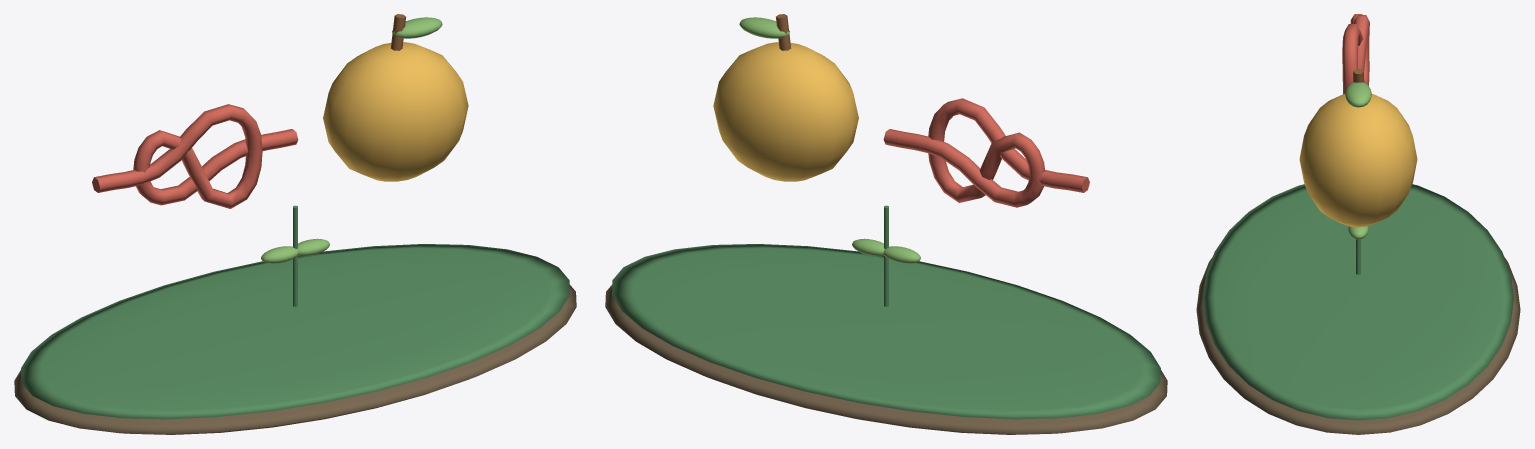
The model's file is complete-second-knot-fruit-result.glb.
3 views of the same model, side by side, from view 1: azimuth 30°, elevation 25°; view 2: azimuth 150°, elevation 25°; view 3: azimuth 270°, elevation 25° (orthographic). The views are drawn at different scales.
Visible parts, largest first — view 1: complete-second-knot-fruit-result_surface_01, complete-second-knot-fruit-result_surface_03, complete-second-knot-fruit-result_surface_00, complete-second-knot-fruit-result_surface_02, complete-second-knot-fruit-result_surface_05; view 2: complete-second-knot-fruit-result_surface_01, complete-second-knot-fruit-result_surface_03, complete-second-knot-fruit-result_surface_00, complete-second-knot-fruit-result_surface_02, complete-second-knot-fruit-result_surface_05; view 3: complete-second-knot-fruit-result_surface_01, complete-second-knot-fruit-result_surface_03, complete-second-knot-fruit-result_surface_00, complete-second-knot-fruit-result_surface_02, complete-second-knot-fruit-result_surface_05.
Part boxes in pixels (<box>): complete-second-knot-fruit-result_surface_01: <box>21,205,569,419</box>; complete-second-knot-fruit-result_surface_03: <box>323,42,468,181</box>; complete-second-knot-fruit-result_surface_00: <box>14,284,576,434</box>; complete-second-knot-fruit-result_surface_02: <box>92,104,298,208</box>; complete-second-knot-fruit-result_surface_05: <box>261,17,442,263</box>; complete-second-knot-fruit-result_surface_01: <box>612,205,1160,419</box>; complete-second-knot-fruit-result_surface_03: <box>713,42,858,181</box>; complete-second-knot-fruit-result_surface_00: <box>605,284,1167,434</box>; complete-second-knot-fruit-result_surface_02: <box>883,98,1089,207</box>; complete-second-knot-fruit-result_surface_05: <box>739,17,920,263</box>; complete-second-knot-fruit-result_surface_01: <box>1203,184,1513,420</box>; complete-second-knot-fruit-result_surface_03: <box>1299,94,1417,227</box>; complete-second-knot-fruit-result_surface_00: <box>1196,257,1520,434</box>; complete-second-knot-fruit-result_surface_02: <box>1342,14,1369,94</box>; complete-second-knot-fruit-result_surface_05: <box>1345,82,1371,239</box>.
Size of the model in its own units: 4.56 by 2.58 by 2.5.
